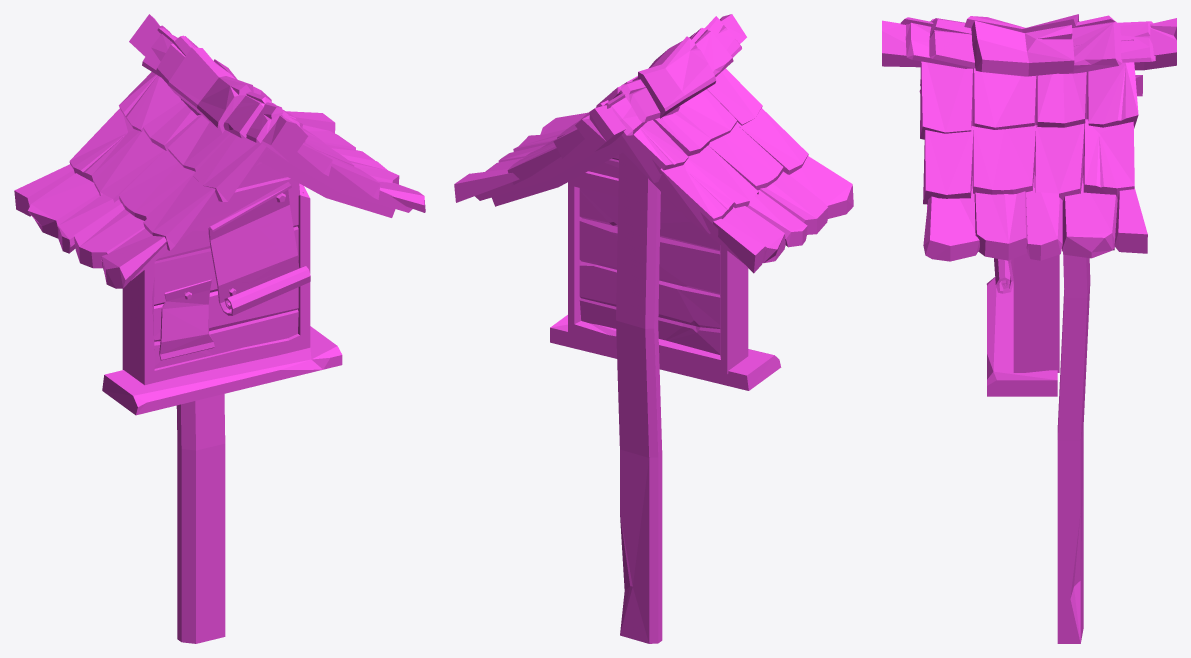
File: SM_Questboard_B_Fantasy.fbx
3 renders of one model, left to right at view 1: azimuth 30°, elevation 25°; view 2: azimuth 150°, elevation 25°; view 3: azimuth 270°, elevation 25°, orthographic. The views are drawn at different scales.
Parts seen in each view (by area): view 1: SM_Questboard_B_Fantasy; view 2: SM_Questboard_B_Fantasy; view 3: SM_Questboard_B_Fantasy.
Part boxes in pixels (x1=…): SM_Questboard_B_Fantasy: x1=14, y1=14, x2=425, y2=643; SM_Questboard_B_Fantasy: x1=454, y1=14, x2=853, y2=643; SM_Questboard_B_Fantasy: x1=882, y1=14, x2=1176, y2=643.
Bounding box in the file's own units: 1.5 × 2.66 × 1.15.
